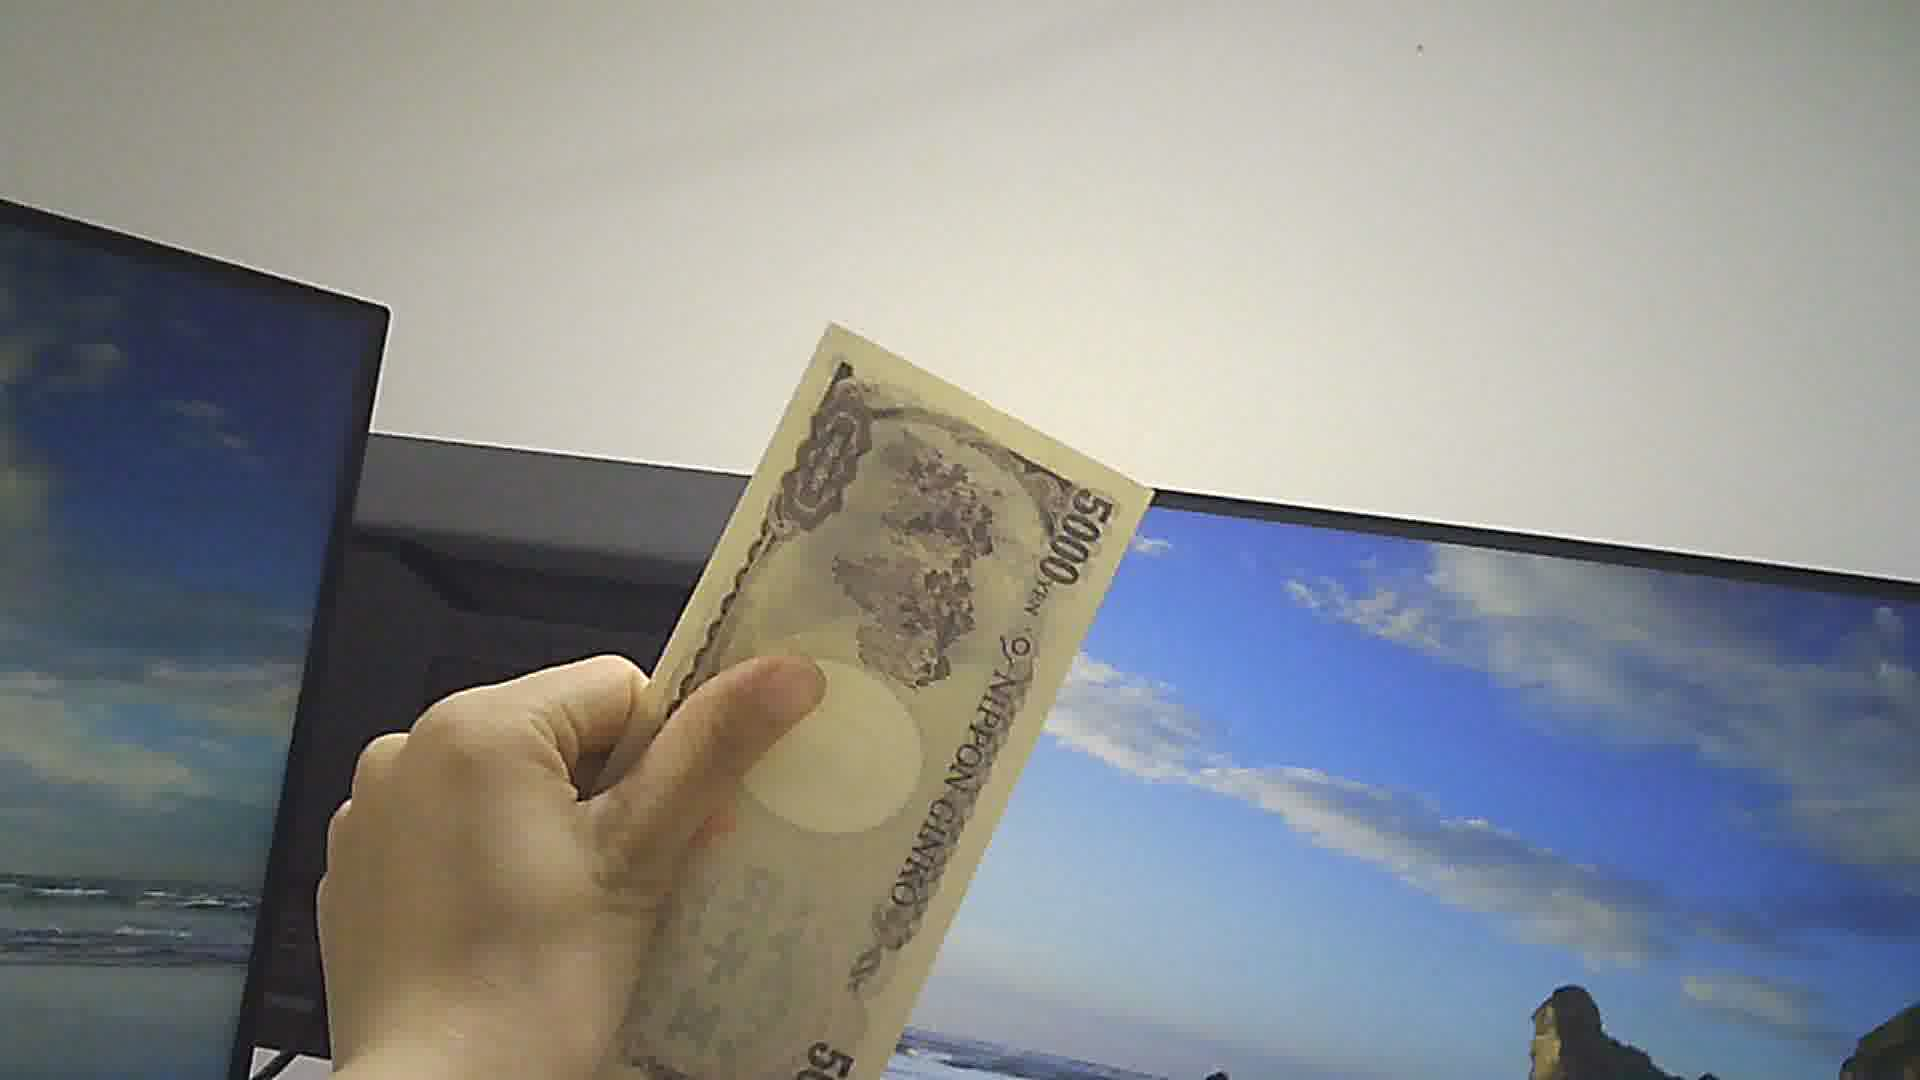5,000 Yen: (588, 320, 1131, 1079)
